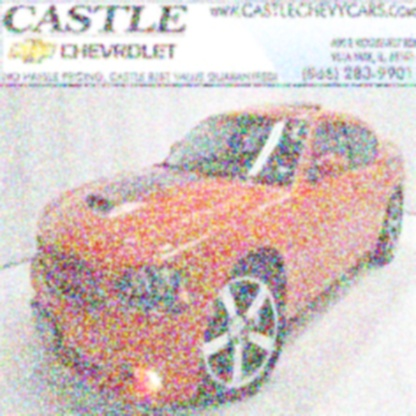Vehicle: (33, 109, 408, 409)
